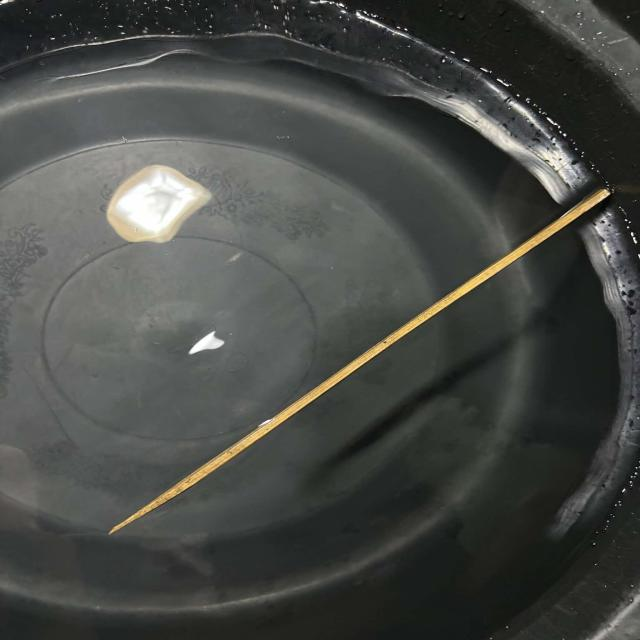Wood Stick: (82, 178, 629, 549)
